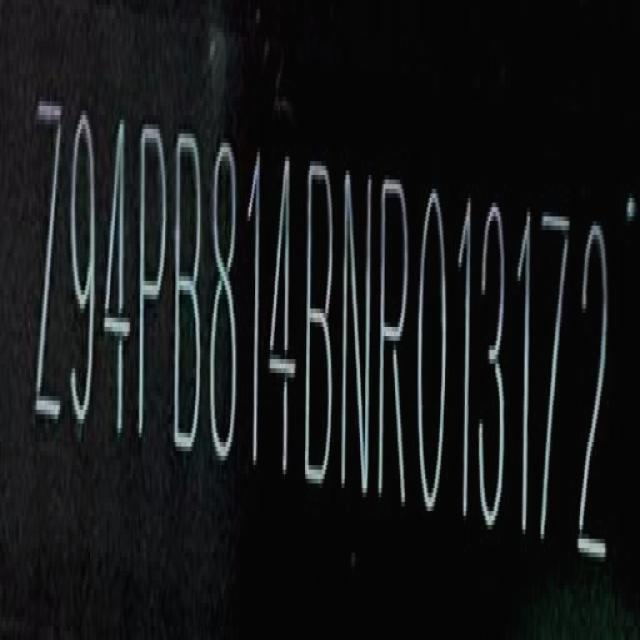0: (417, 181, 450, 524)
1: (518, 201, 536, 544), (457, 191, 475, 529), (246, 141, 262, 473)
2: (580, 210, 615, 574)
3: (480, 196, 508, 536)
4: (103, 110, 134, 449), (271, 146, 301, 482)
7: (539, 208, 572, 556)
8: (210, 132, 240, 464)
9: (70, 105, 98, 449)
B: (305, 159, 339, 493), (174, 127, 206, 463)
N: (343, 162, 378, 500)
P: (135, 117, 167, 459)
R: (380, 172, 414, 513)
Z: (35, 101, 66, 446)
